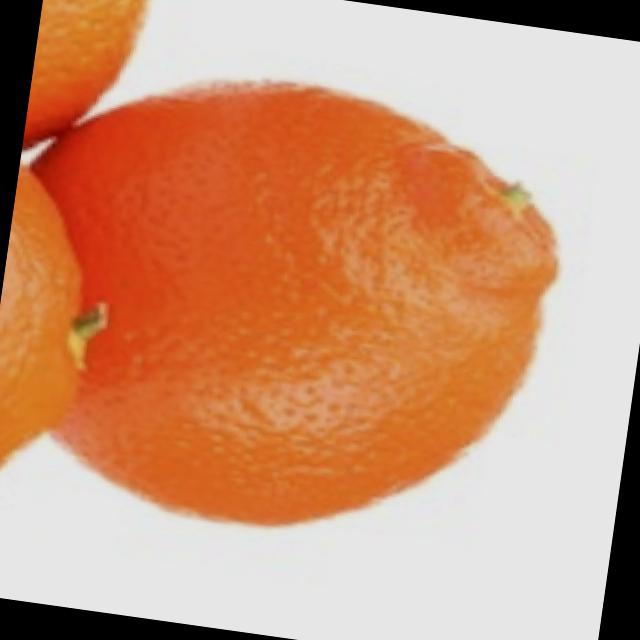orange: (34, 41, 595, 574)
